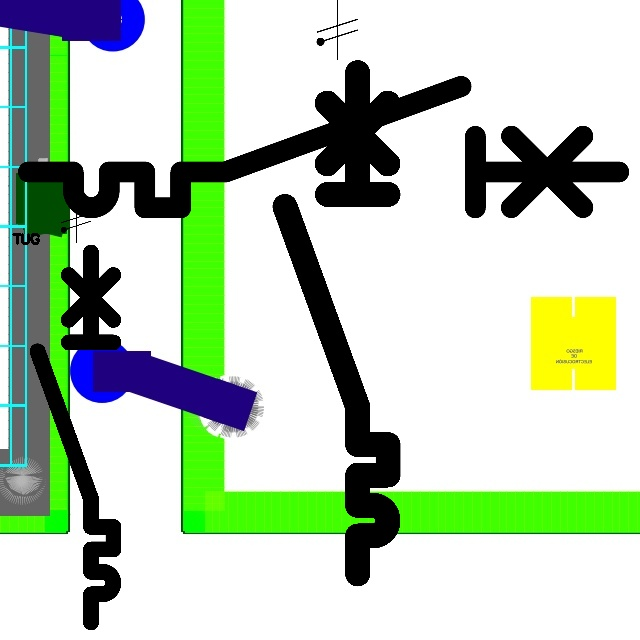interruptor_termomagnetico: (13, 71, 633, 223), (272, 59, 401, 586), (28, 242, 123, 631)
